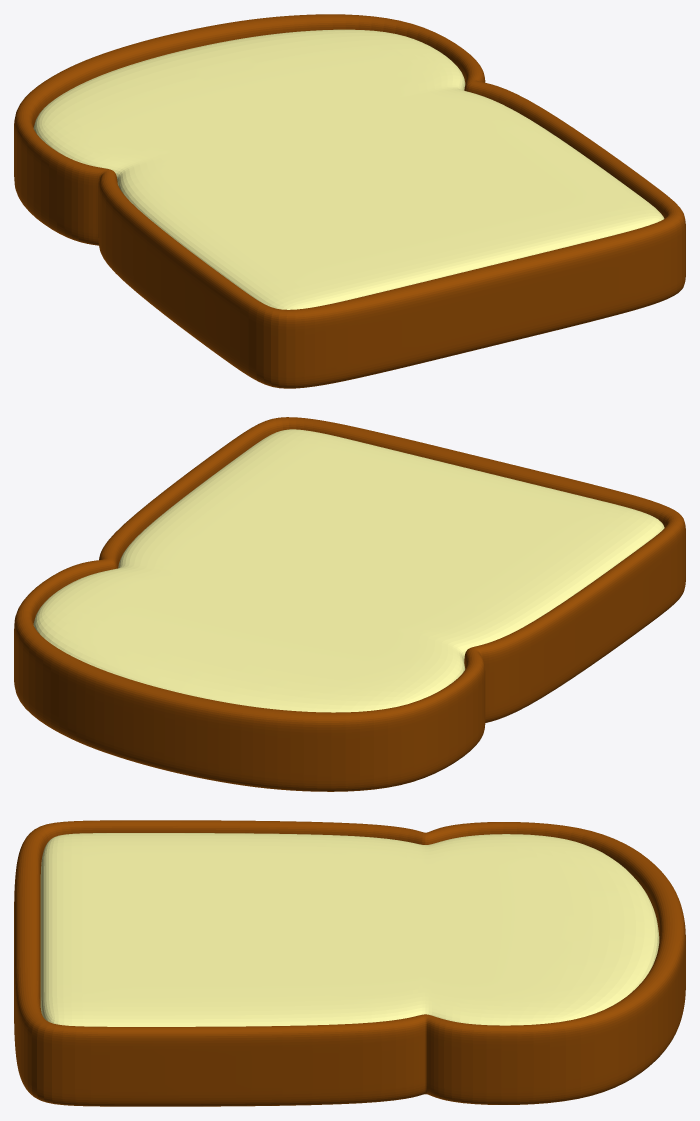
Rendered from 1pieceBread.fbx.
3 views of the same model, one above another, from view 1: azimuth 30°, elevation 25°; view 2: azimuth 150°, elevation 25°; view 3: azimuth 270°, elevation 25° (orthographic).
Parts seen in each view (by area): view 1: Plane; view 2: Plane; view 3: Plane.
Boxes of the visible parts, bbox=[...] form: Plane: bbox=[14, 14, 685, 388]; Plane: bbox=[14, 417, 685, 791]; Plane: bbox=[14, 820, 685, 1106].
Bounding box in the file's own units: 217 × 37.3 × 286.
